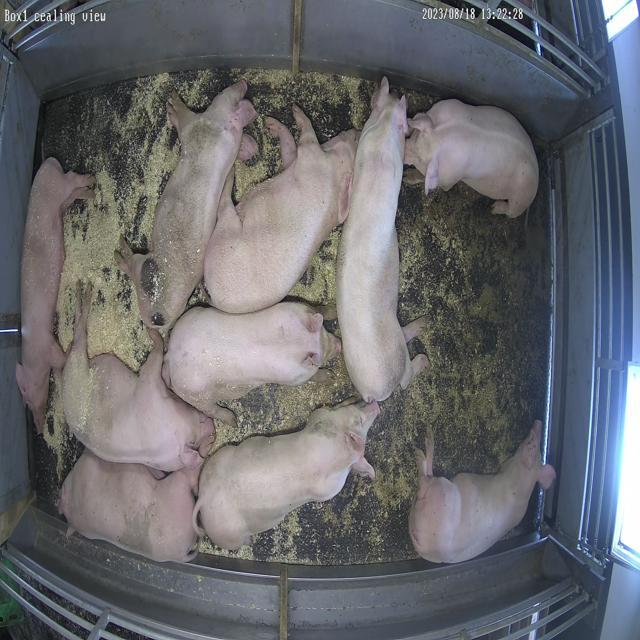Dirt: (392, 183, 549, 478)
Pig: (204, 105, 360, 314), (133, 80, 257, 332), (337, 77, 429, 402), (193, 402, 380, 550), (62, 307, 214, 472), (162, 303, 342, 425), (15, 158, 94, 432), (409, 422, 556, 564), (405, 99, 540, 218)
